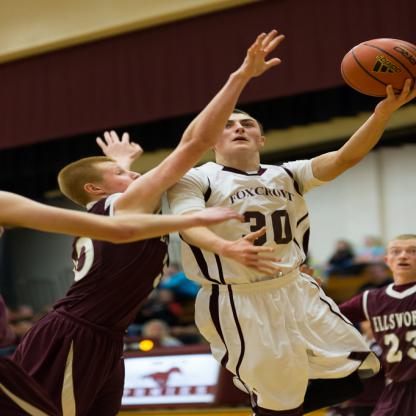Ball: (338, 36, 415, 100)
